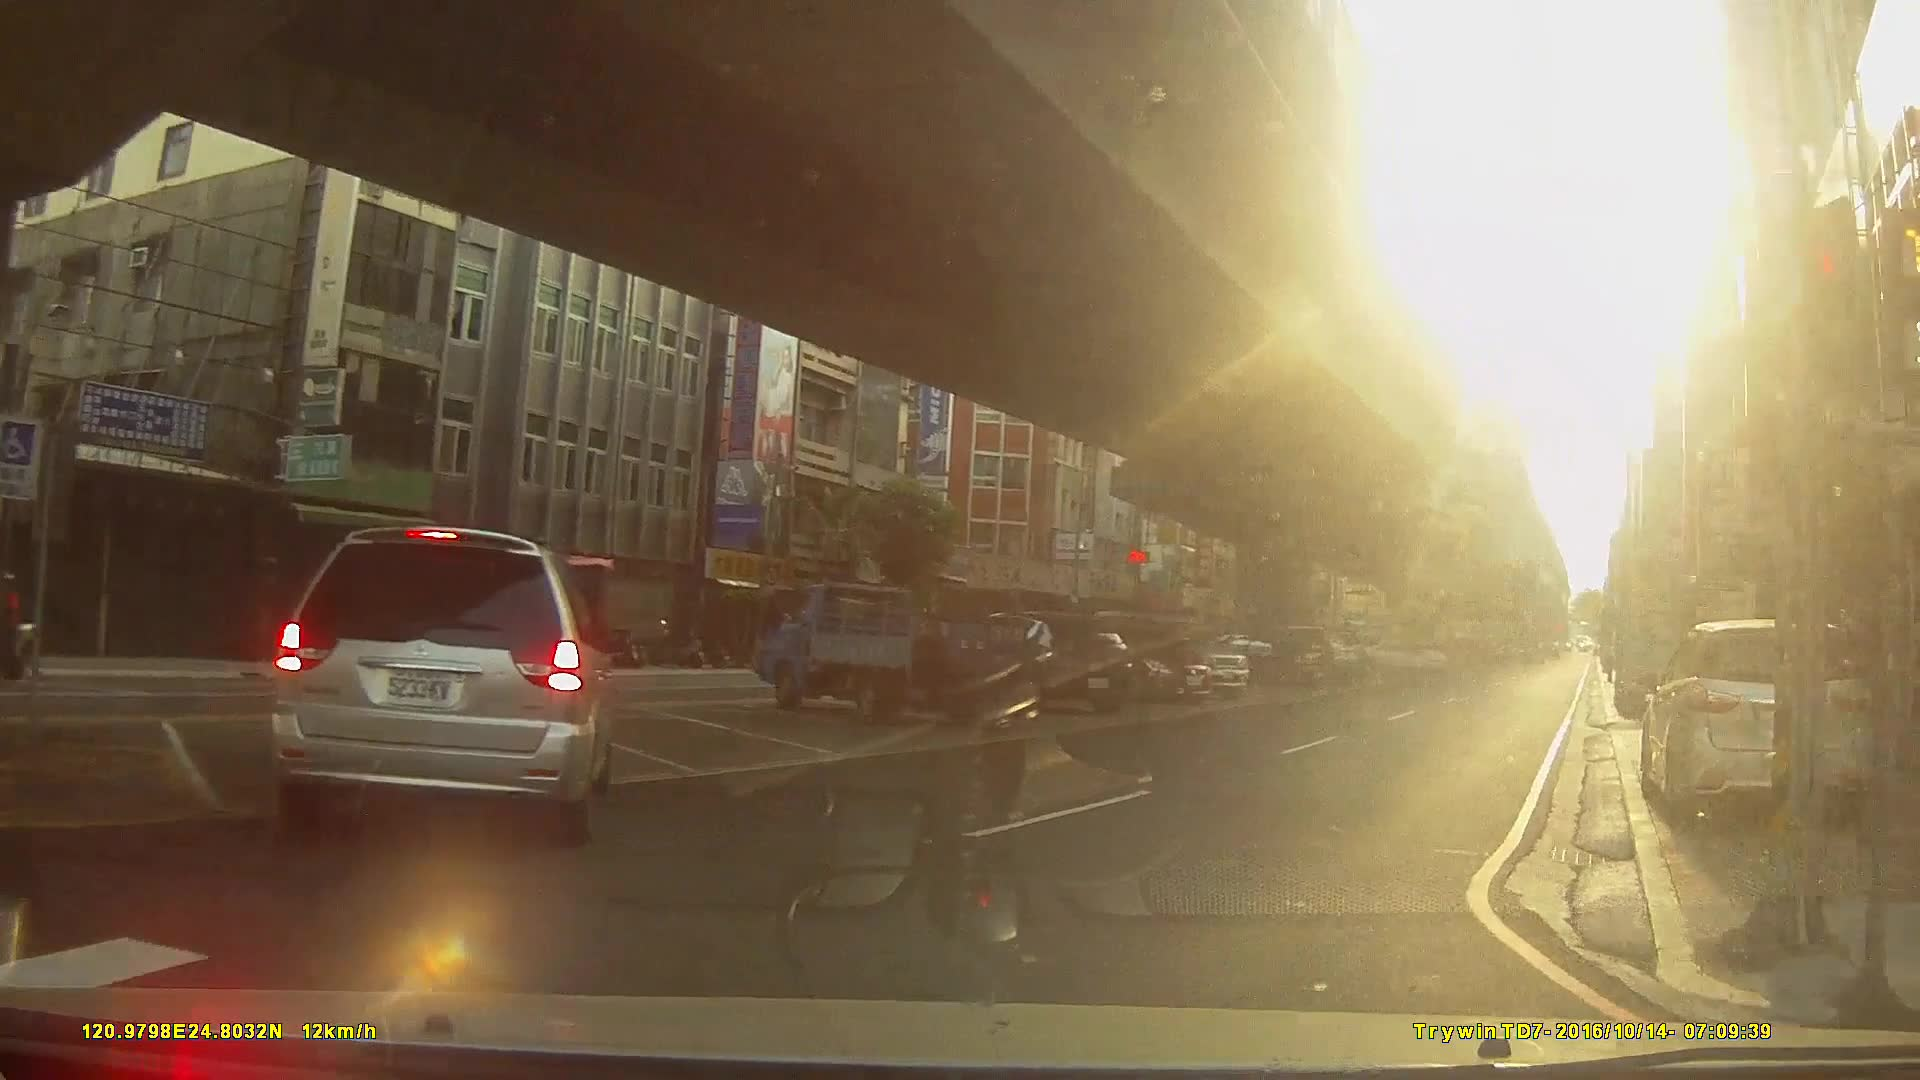rider: (1, 571, 45, 687)
vehicle: (264, 525, 610, 843), (1636, 618, 1876, 833), (752, 582, 1015, 728), (950, 613, 1135, 719), (1047, 621, 1214, 706), (1183, 630, 1305, 685)
